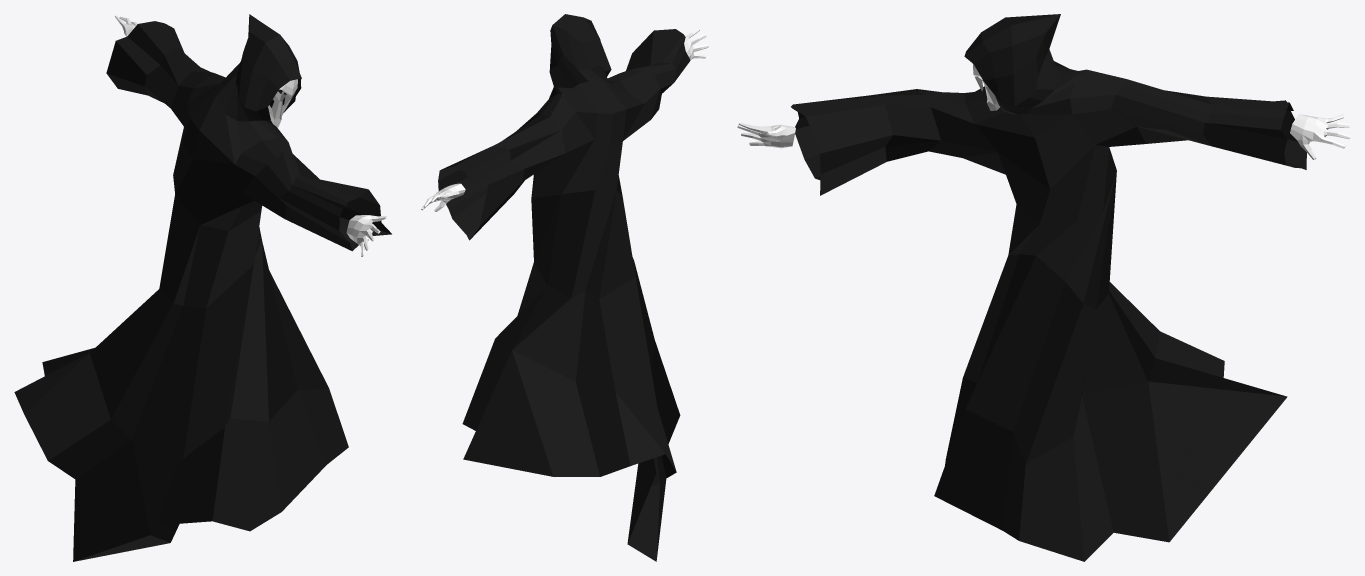
The model's file is ReaperAttack(36).obj.
3 renders of one model, left to right at view 1: azimuth 30°, elevation 25°; view 2: azimuth 150°, elevation 25°; view 3: azimuth 270°, elevation 25°, orthographic. The views are drawn at different scales.
Parts seen in each view (by area): view 1: Plane003; view 2: Plane003; view 3: Plane003.
Part boxes in pixels (<box>): Plane003: <box>14,14,391,561</box>; Plane003: <box>421,14,708,561</box>; Plane003: <box>737,14,1350,561</box>.
Size of the model in its own units: 119 by 231 by 217.
